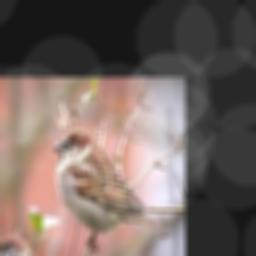Sparrow: (52, 128, 172, 249)
